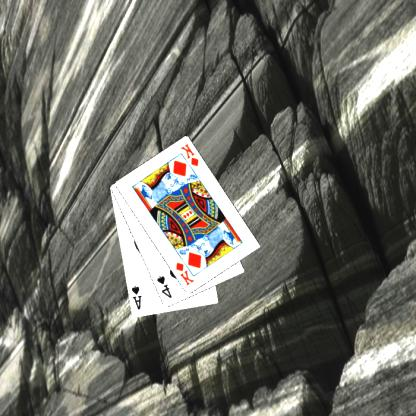4S: (156, 274, 174, 300)
AS: (131, 284, 144, 312)
KD: (175, 260, 197, 287), (180, 141, 202, 168)
